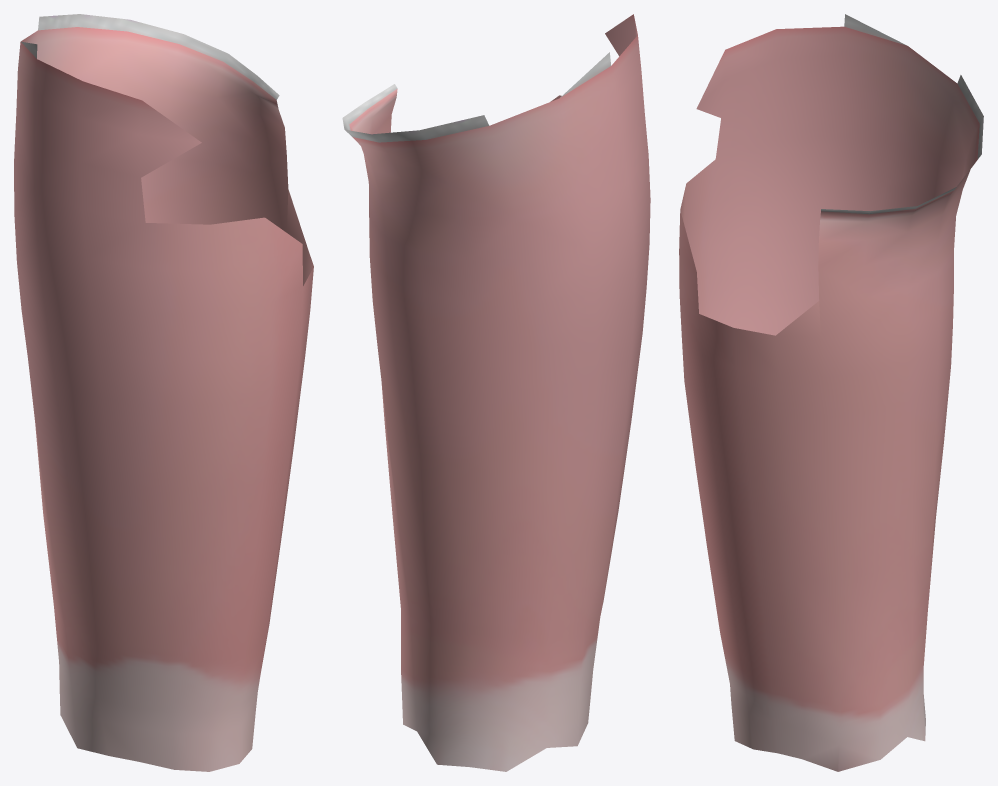
The model's file is leg_upper_R.obj.
3 views of the same model, side by side, from view 1: azimuth 30°, elevation 25°; view 2: azimuth 150°, elevation 25°; view 3: azimuth 270°, elevation 25° (orthographic). The views are drawn at different scales.
Visible parts, largest first — view 1: leg_upper_R; view 2: leg_upper_R; view 3: leg_upper_R.
Part boxes in pixels (left/top/right/bottom): leg_upper_R: left=14, top=14, right=313, bottom=771; leg_upper_R: left=342, top=14, right=650, bottom=771; leg_upper_R: left=679, top=14, right=983, bottom=771.
Bounding box in the file's own units: 0.1292 × 0.3569 × 0.1472.
Materials: 1 (1 with a texture image).
